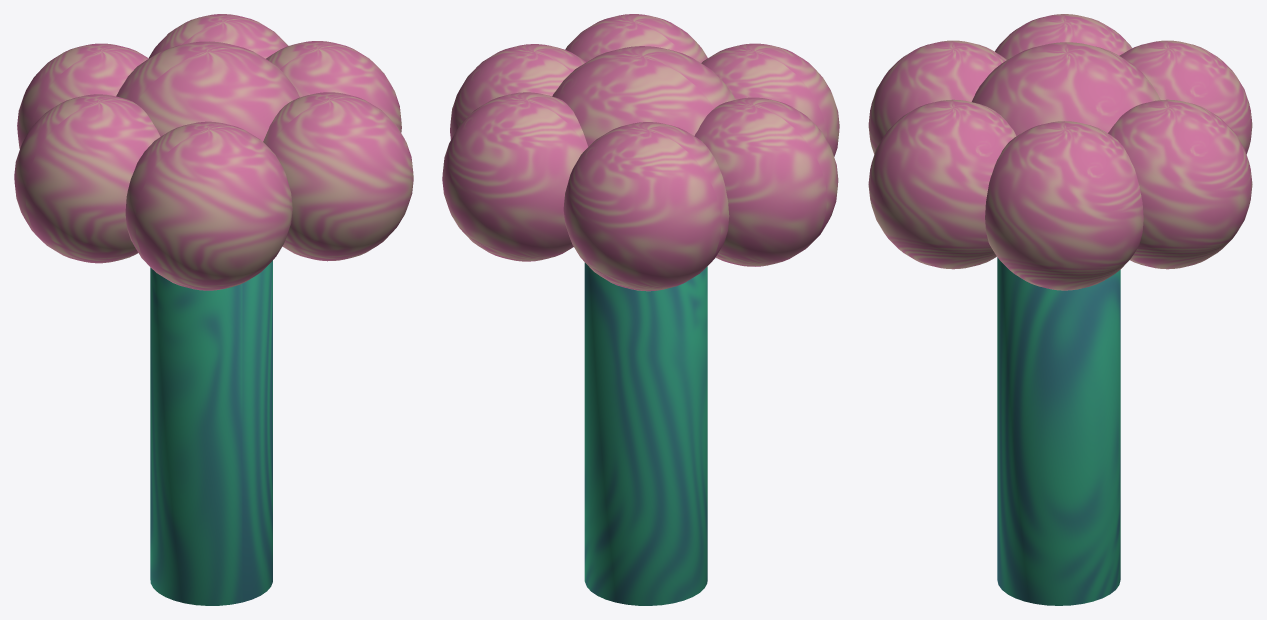
File: flowers-1.gltf
The picture shows the model from 3 angles, left to right: view 1: azimuth 30°, elevation 25°; view 2: azimuth 150°, elevation 25°; view 3: azimuth 270°, elevation 25°; orthographic projection.
Parts seen in each view (by area): view 1: Petals, Stem; view 2: Petals, Stem; view 3: Petals, Stem.
Boxes of the visible parts, bbox=[...] form: Petals: bbox=[14, 14, 413, 290]; Stem: bbox=[150, 260, 272, 605]; Petals: bbox=[442, 14, 839, 291]; Stem: bbox=[584, 262, 707, 605]; Petals: bbox=[868, 14, 1252, 290]; Stem: bbox=[997, 257, 1120, 605].
Bounding box in the file's own units: 0.253 × 0.3478 × 0.2296.
2 materials, 2 textured.
